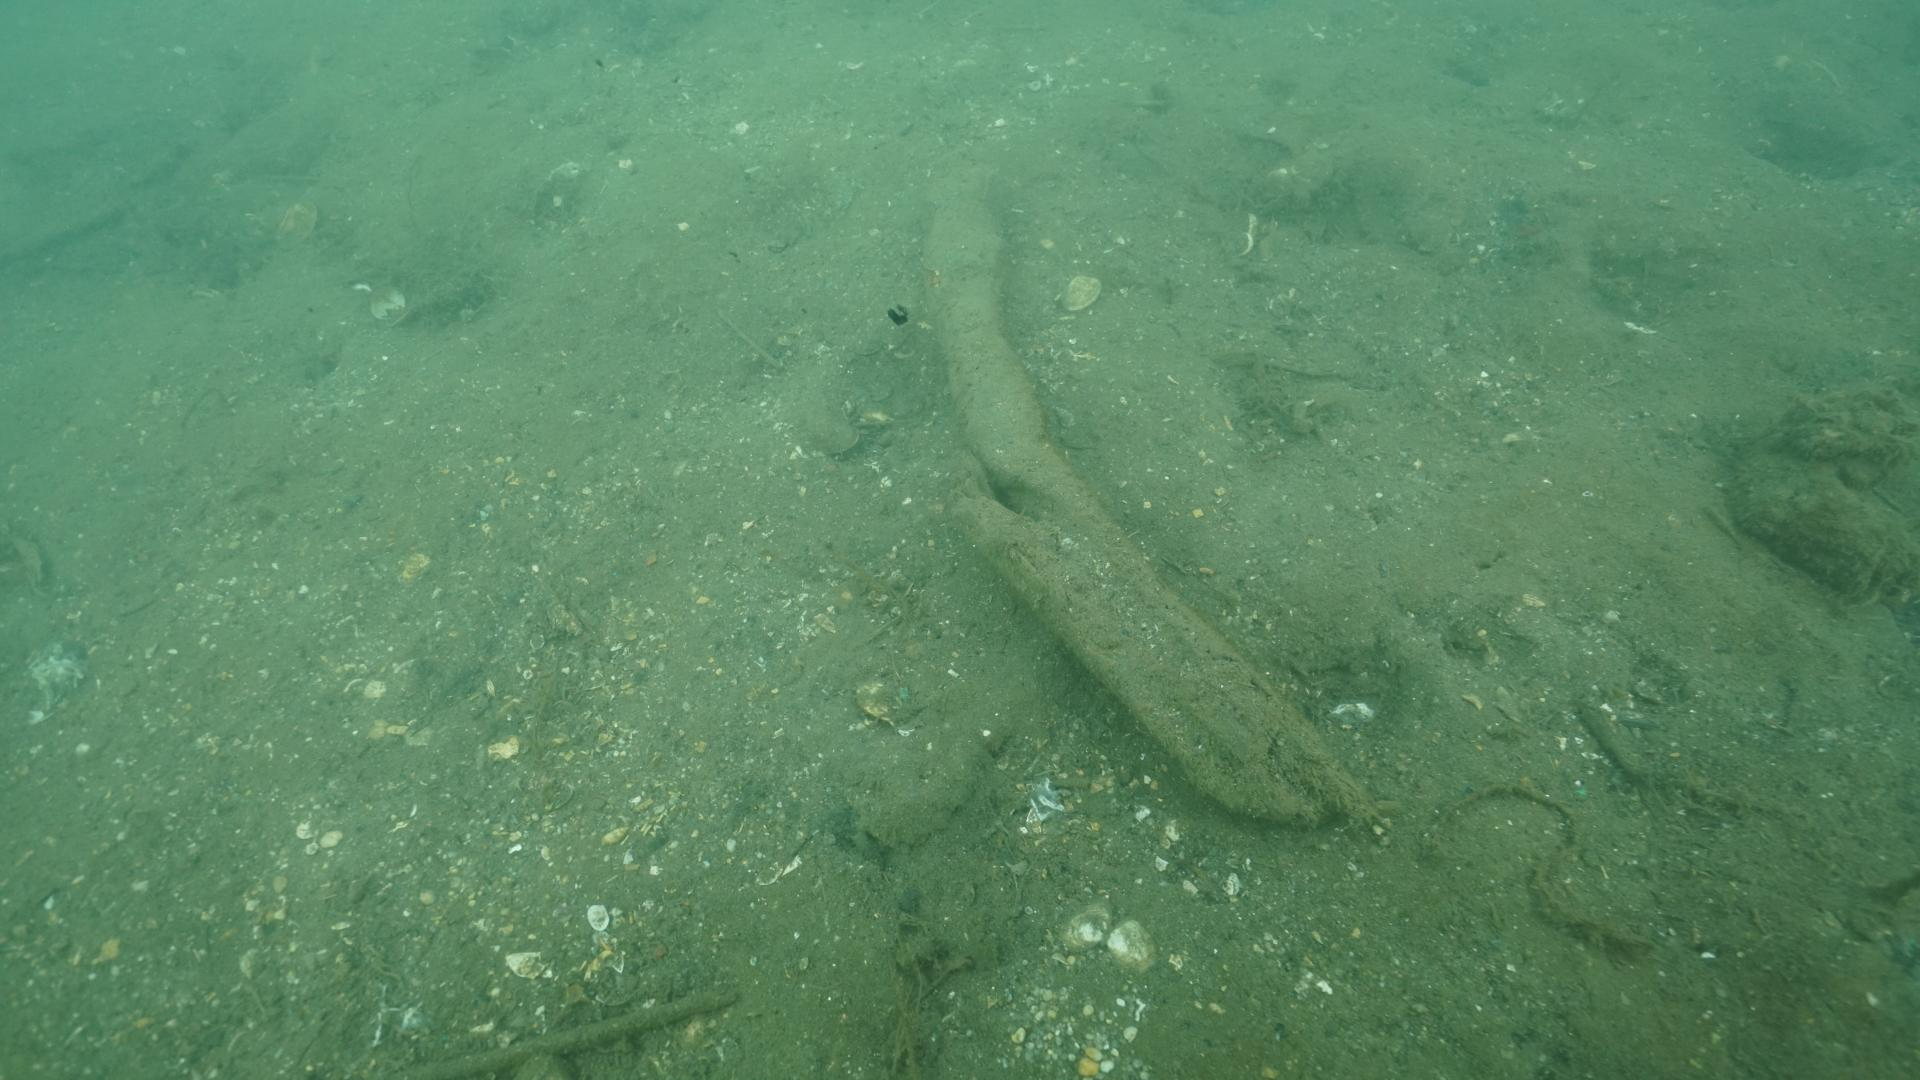wood: (915, 195, 1364, 829)
